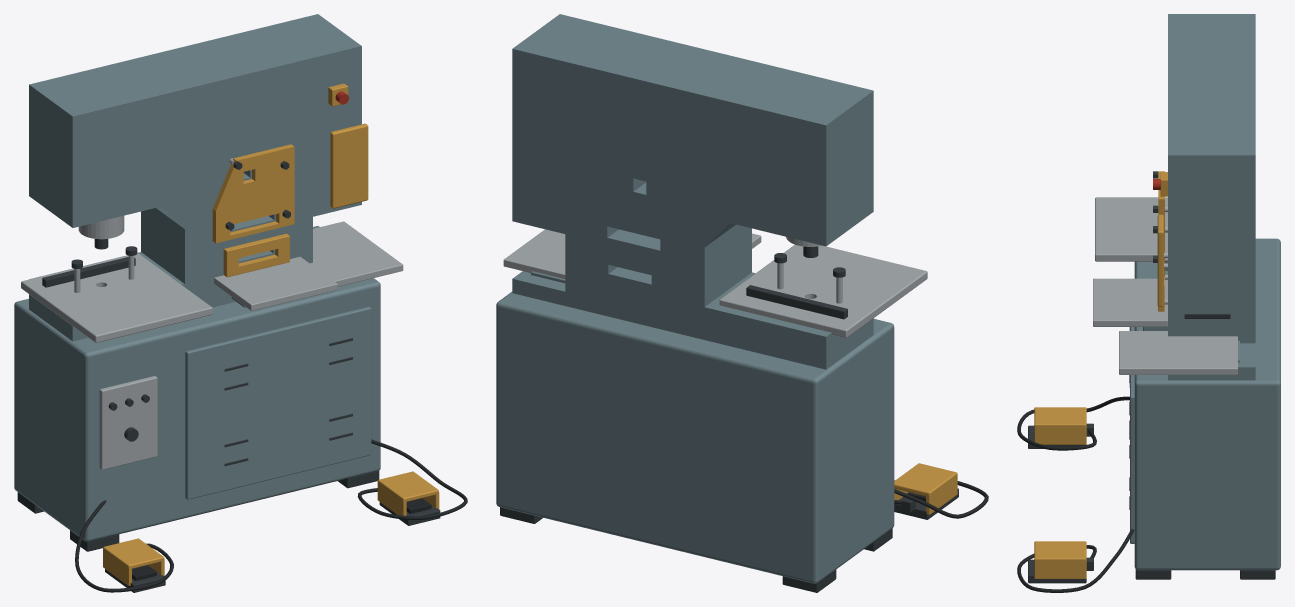
Rendered from A-NEW-20261026-HYDRAULIC-IRONWORKER-001_LOD0_R2.glb.
3 renders of one model, left to right at view 1: azimuth 30°, elevation 25°; view 2: azimuth 150°, elevation 25°; view 3: azimuth 270°, elevation 25°, orthographic. The views are drawn at different scales.
Parts seen in each view (by area): view 1: one continuous multi station upper body, integral lower cabinet, front service panel, left punch worktable, central guarded feed plate, left console panel, central worktable, right station worktable, right front safety plate, lower guarded feed plate, pedal hood top 1, pedal hood top -1 (+4 smaller); view 2: one continuous multi station upper body, integral lower cabinet, left punch worktable, right station worktable, pedal hood top -1, left rear fence, attached pedal cable -1; view 3: integral lower cabinet, one continuous multi station upper body, right station worktable, left punch worktable, central worktable, pedal hood top -1, pedal hood top 1, pedal hood side 1 0.09, pedal hood side -1 0.09, front service panel, attached pedal cable 1, attached pedal cable -1 (+4 smaller).
Boxes of the visible parts, x1,y1,x2,y2 form: one continuous multi station upper body: (29,14,361,341); integral lower cabinet: (14,278,380,541); front service panel: (185,306,371,499); left punch worktable: (21,253,212,342); central guarded feed plate: (212,144,294,243); left console panel: (99,376,157,469); central worktable: (214,256,337,310); right station worktable: (310,221,403,286); right front safety plate: (330,123,368,208); lower guarded feed plate: (223,233,289,277); pedal hood top 1: (377,471,438,501); pedal hood top -1: (103,538,164,568); one continuous multi station upper body: (512,14,873,369); integral lower cabinet: (496,292,894,583); left punch worktable: (719,244,927,337); right station worktable: (503,229,565,278); pedal hood top -1: (894,463,957,496); left rear fence: (746,285,847,319); attached pedal cable -1: (894,480,988,518); integral lower cabinet: (1134,238,1280,570); one continuous multi station upper body: (1168,14,1255,380); right station worktable: (1119,331,1237,374); left punch worktable: (1095,197,1167,261); central worktable: (1093,278,1167,326); pedal hood top -1: (1034,407,1086,427); pedal hood top 1: (1034,541,1086,561); pedal hood side 1 0.09: (1034,560,1086,578); pedal hood side -1 0.09: (1034,426,1086,444); front service panel: (1130,327,1134,543); attached pedal cable 1: (1017,529,1134,592); attached pedal cable -1: (1017,396,1129,450).
Bounding box in the file's own units: 2.06 × 2.24 × 1.26.
